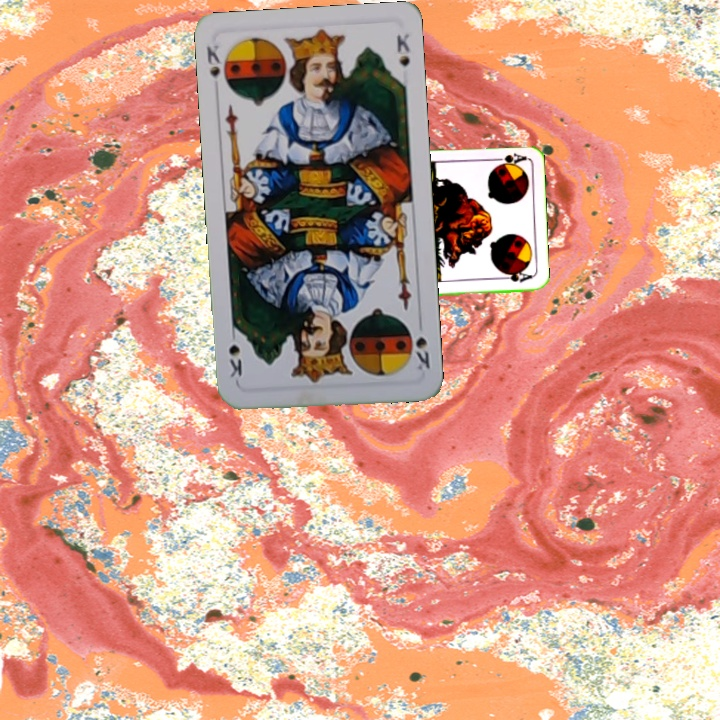SA: (487, 149, 528, 169)
SK: (202, 41, 231, 96), (411, 333, 432, 374)
